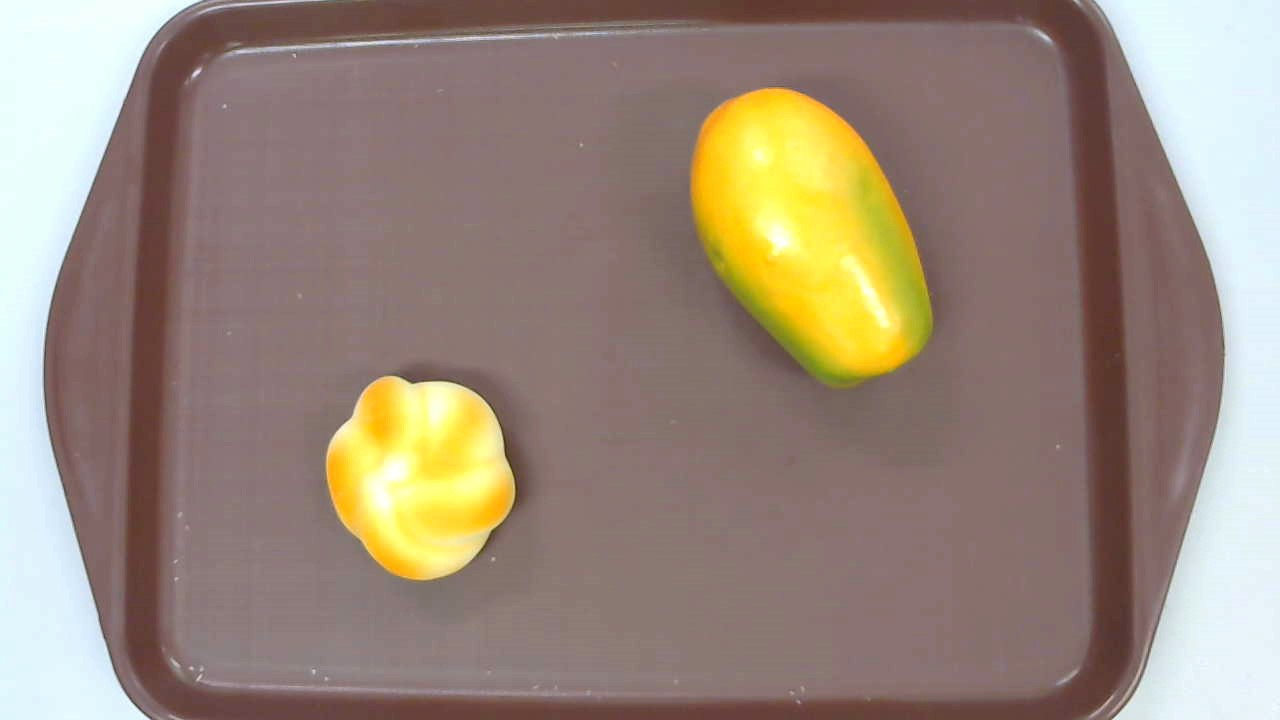papya: (689, 86, 932, 390)
twist bread: (325, 376, 516, 580)
